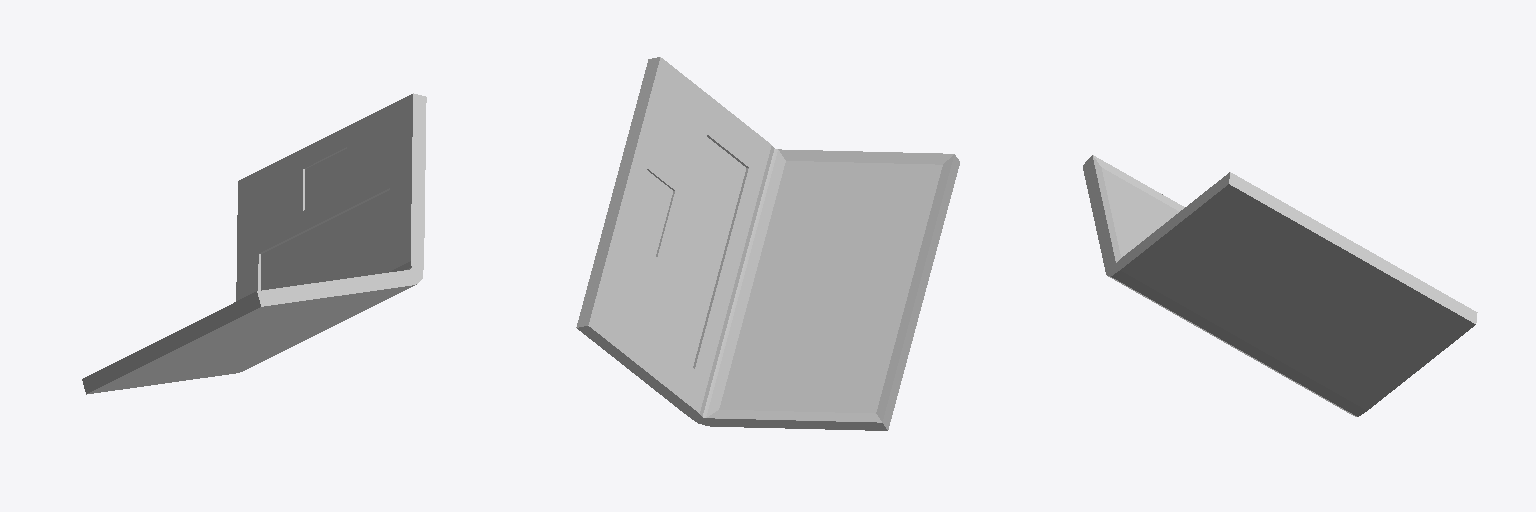
The model's file is arlaptopweb.obj.
3 views of the same model, side by side, from view 1: azimuth 30°, elevation 25°; view 2: azimuth 150°, elevation 25°; view 3: azimuth 270°, elevation 25° (orthographic).
Parts seen in each view (by area): view 1: console_console_auv; view 2: console_console_auv; view 3: console_console_auv.
Part boxes in pixels (left/top/right/bottom): console_console_auv: left=82, top=93, right=426, bottom=394; console_console_auv: left=576, top=57, right=959, bottom=430; console_console_auv: left=1083, top=155, right=1477, bottom=416.
Bounding box in the file's own units: 3.39 × 3.32 × 4.